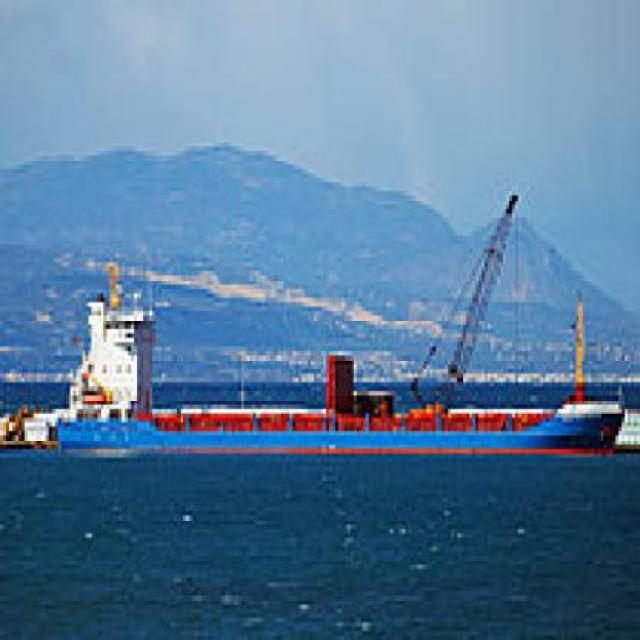container: (1, 259, 632, 463)
